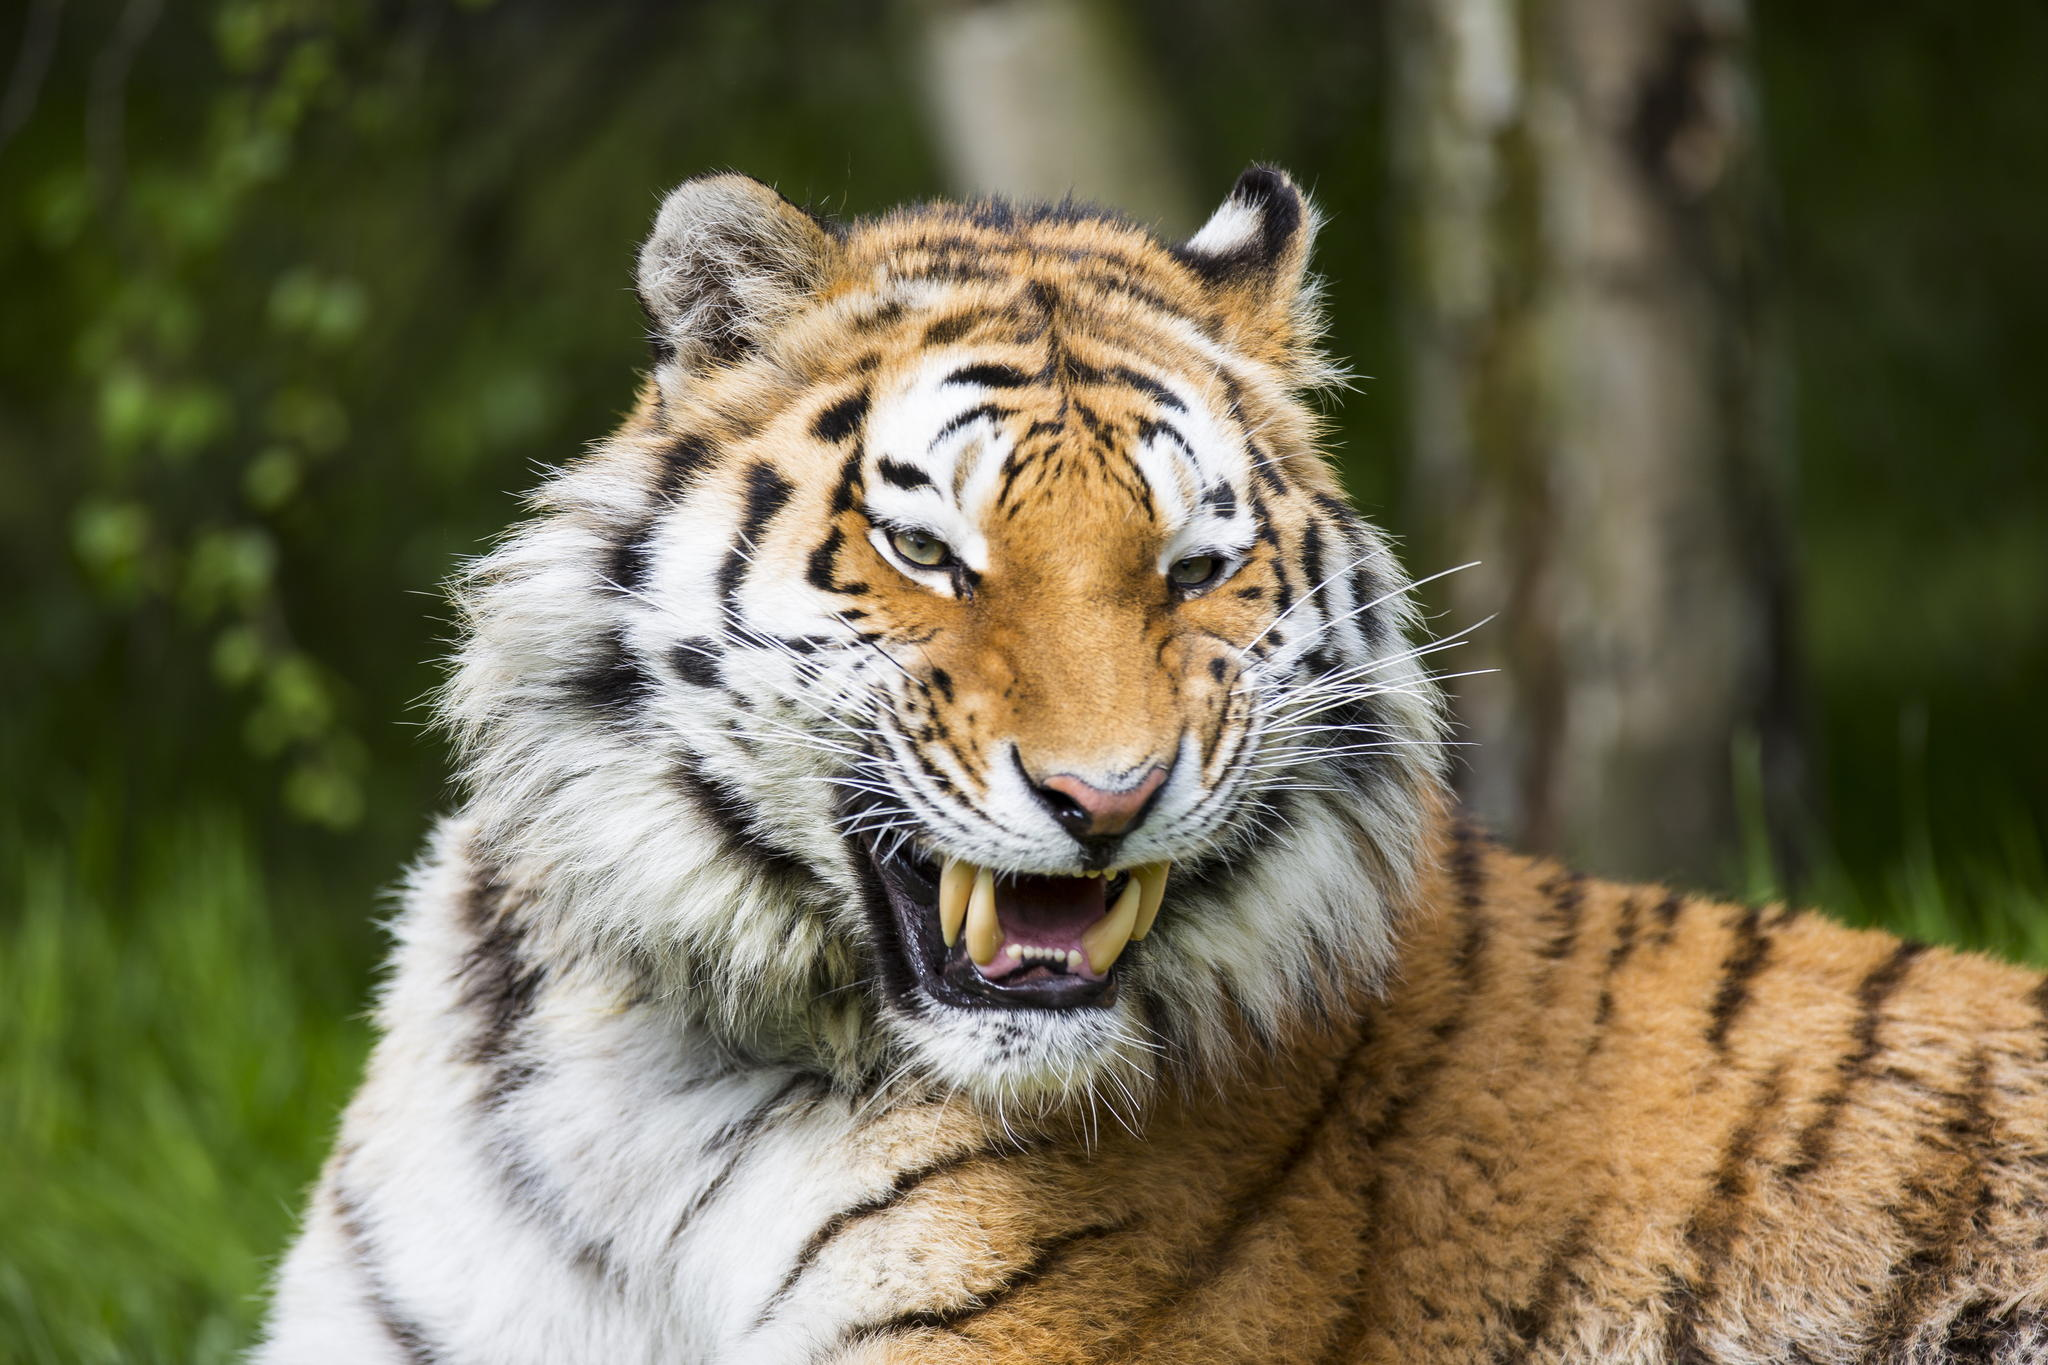tiger: (400, 158, 1983, 1341)
